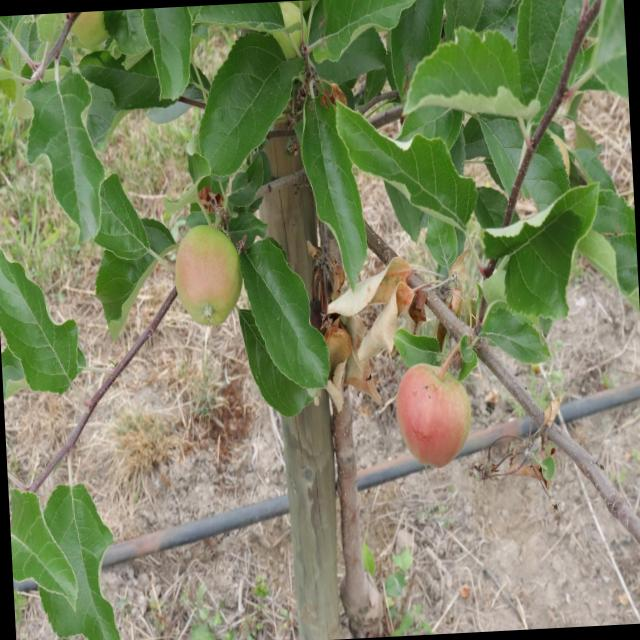-FireBlight-: (307, 248, 438, 402)
